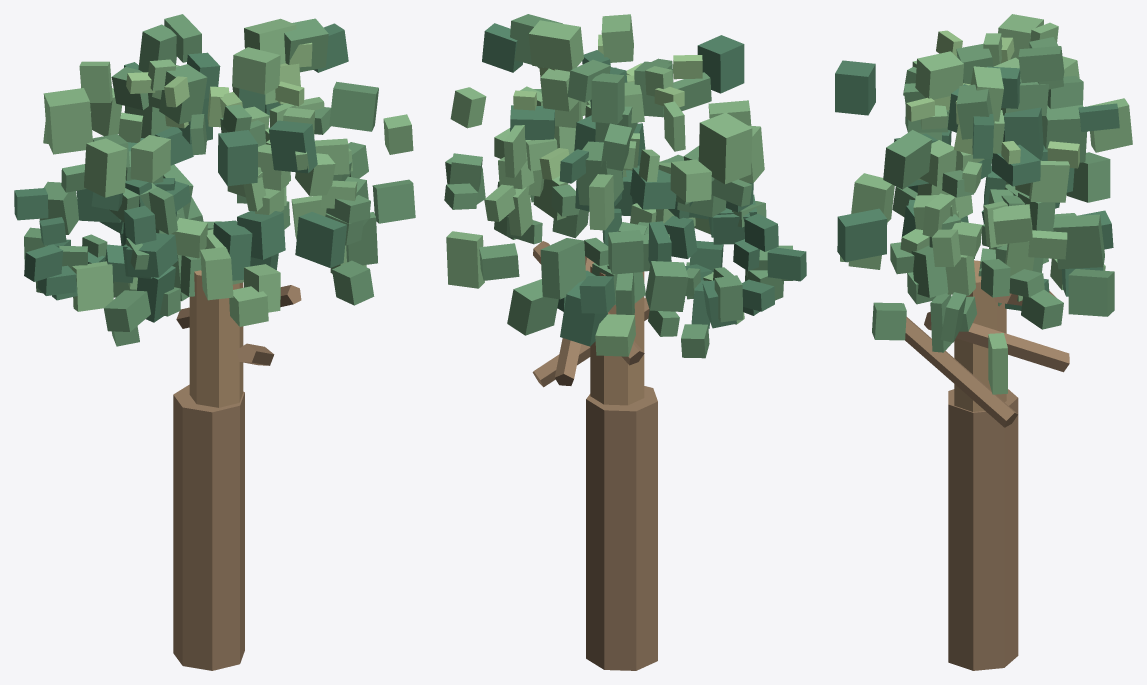
The model's file is granular_round_tree.glb.
3 renders of one model, left to right at view 1: azimuth 30°, elevation 25°; view 2: azimuth 150°, elevation 25°; view 3: azimuth 270°, elevation 25°, orthographic.
Visible parts, largest first — view 1: granular_round_tree_root; view 2: granular_round_tree_root; view 3: granular_round_tree_root.
Part boxes in pixels (<box>): granular_round_tree_root: <box>14,14,415,670</box>; granular_round_tree_root: <box>444,14,806,670</box>; granular_round_tree_root: <box>835,14,1132,670</box>.
Bounding box in the file's own units: 3.47 × 5.5 × 2.43.
